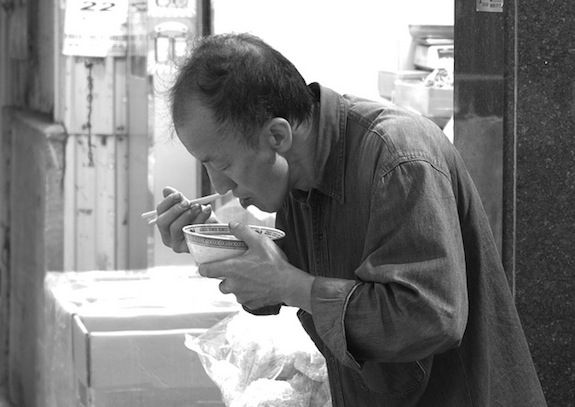eating: (104, 27, 400, 330)
